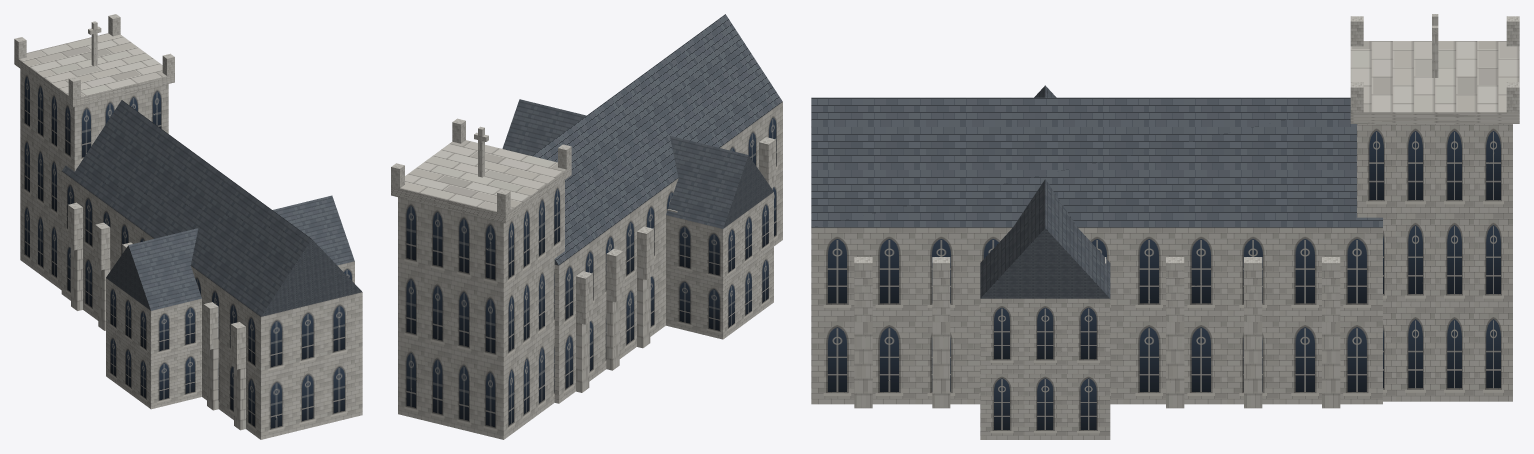
Rendered from michiels.obj.
The picture shows the model from 3 angles, left to right: view 1: azimuth 30°, elevation 25°; view 2: azimuth 150°, elevation 25°; view 3: azimuth 270°, elevation 25°; orthographic projection. The views are drawn at different scales.
Parts seen in each view (by area): view 1: part2, part1, part5, part3, part4, part6.nocast, part21, part23, part11, part24, part13, part14 (+2 smaller); view 2: part5, part2, part1, part3, part4, part6.nocast, part13, part11, part15, part14, part12, part16 (+1 smaller); view 3: part2, part1, part5, part3, part6.nocast, part4, part37, part25, part27, part29, part35, part26 (+4 smaller).
Boxes of the visible parts, x1=… form: part2: x1=62, y1=100, x2=362, y2=316; part1: x1=61, y1=171, x2=362, y2=439; part5: x1=20, y1=69, x2=168, y2=289; part3: x1=106, y1=261, x2=354, y2=409; part4: x1=106, y1=195, x2=354, y2=310; part6.nocast: x1=14, y1=33, x2=174, y2=107; part21: x1=207, y1=327, x2=218, y2=410; part23: x1=234, y1=347, x2=245, y2=430; part11: x1=71, y1=228, x2=82, y2=310; part24: x1=230, y1=322, x2=245, y2=369; part13: x1=98, y1=248, x2=110, y2=330; part14: x1=95, y1=222, x2=110, y2=270; part5: x1=398, y1=180, x2=564, y2=439; part2: x1=532, y1=14, x2=782, y2=265; part1: x1=554, y1=102, x2=782, y2=403; part3: x1=666, y1=192, x2=773, y2=339; part4: x1=502, y1=99, x2=773, y2=228; part6.nocast: x1=391, y1=140, x2=571, y2=223; part13: x1=606, y1=277, x2=619, y2=370; part11: x1=576, y1=300, x2=589, y2=392; part15: x1=637, y1=255, x2=650, y2=348; part14: x1=606, y1=249, x2=623, y2=302; part12: x1=576, y1=271, x2=592, y2=324; part16: x1=637, y1=226, x2=653, y2=279; part2: x1=811, y1=97, x2=1382, y2=227; part1: x1=811, y1=227, x2=1382, y2=404; part5: x1=1357, y1=124, x2=1512, y2=401; part3: x1=980, y1=298, x2=1110, y2=439; part6.nocast: x1=1350, y1=41, x2=1519, y2=123; part4: x1=980, y1=85, x2=1110, y2=298; part37: x1=854, y1=322, x2=872, y2=408; part25: x1=1322, y1=322, x2=1340, y2=408; part27: x1=1244, y1=322, x2=1262, y2=408; part29: x1=1166, y1=322, x2=1184, y2=408; part35: x1=932, y1=322, x2=950, y2=408; part26: x1=1322, y1=257, x2=1340, y2=321.
Size of the model in its own units: 26 by 30 by 54.5.
3 materials, 3 textured.
